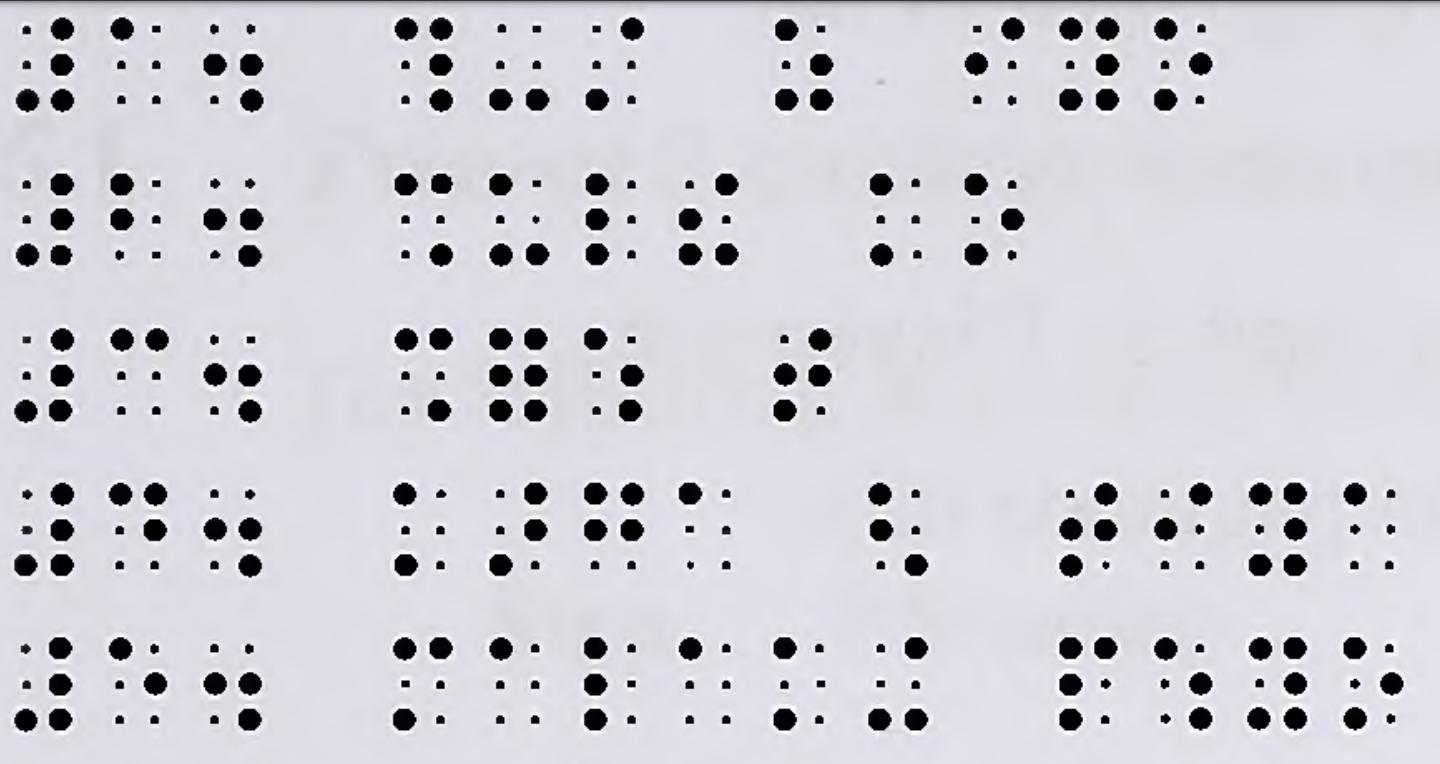1: (111, 17, 163, 104)
2: (107, 172, 162, 263)
3: (111, 326, 168, 414)
4: (109, 484, 167, 574)
5: (108, 637, 167, 726)
a: (677, 479, 732, 571), (489, 637, 542, 728), (1341, 481, 1394, 570), (679, 636, 731, 726)
an: (1154, 637, 1214, 733), (585, 328, 645, 422)
ang: (677, 173, 741, 268)
ar: (489, 481, 549, 574)
g: (582, 480, 647, 570)
i: (964, 17, 1024, 106), (1153, 482, 1213, 571)
ibig: (587, 17, 644, 110)
ing: (870, 636, 930, 731)
k: (391, 479, 449, 576), (771, 637, 826, 733), (868, 171, 921, 266)
l: (584, 634, 639, 729), (583, 172, 639, 264)
m: (392, 635, 456, 730)
mag: (395, 326, 453, 422), (396, 173, 453, 268)
mahal: (488, 329, 546, 422)
ng: (869, 481, 929, 577)
number: (11, 479, 73, 578), (15, 15, 75, 114), (13, 329, 74, 426), (14, 635, 72, 737), (15, 176, 74, 264)
o: (962, 171, 1025, 269), (1341, 636, 1403, 731), (1154, 16, 1213, 111)
p: (1055, 634, 1118, 730)
pag: (396, 18, 454, 112)
sa: (773, 19, 834, 113)
t: (1060, 481, 1119, 578)
tayo: (774, 328, 833, 423)
u: (489, 172, 547, 266)
y: (1245, 633, 1309, 733), (1059, 14, 1120, 113), (1248, 483, 1309, 576)
